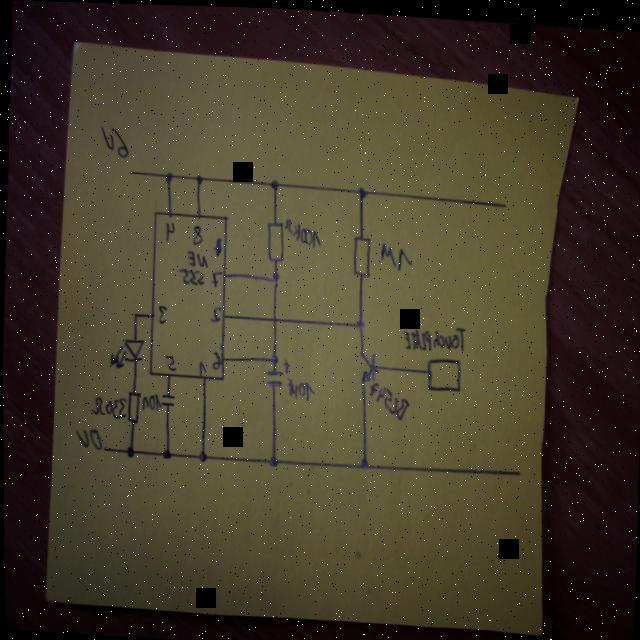capacitor: (264, 355, 289, 385), (159, 390, 174, 405)
crossover: (270, 313, 276, 321)
diode: (108, 334, 143, 368)
junction: (267, 268, 279, 283), (268, 174, 278, 188), (267, 452, 277, 466), (162, 168, 173, 180), (357, 182, 367, 195), (125, 442, 134, 456), (197, 448, 207, 460), (359, 454, 368, 467), (161, 446, 171, 457), (194, 170, 202, 183), (355, 316, 364, 326), (269, 350, 277, 361), (131, 309, 137, 316)
resistor: (350, 231, 370, 275), (265, 217, 284, 260), (125, 387, 140, 422)
terminal: (424, 351, 461, 389), (499, 197, 507, 205), (513, 463, 520, 472), (101, 442, 106, 450), (127, 166, 131, 173)
text: (401, 318, 466, 351), (367, 377, 410, 417), (282, 214, 321, 246), (176, 245, 208, 284), (378, 238, 412, 268), (89, 392, 126, 418), (99, 123, 129, 155), (283, 374, 314, 398), (73, 425, 103, 448), (139, 389, 160, 410), (190, 221, 203, 243), (209, 347, 221, 368), (209, 267, 222, 286), (208, 302, 221, 321), (163, 218, 174, 240), (163, 351, 176, 368), (156, 302, 167, 322), (196, 357, 206, 373)
transistor: (357, 345, 376, 379)
